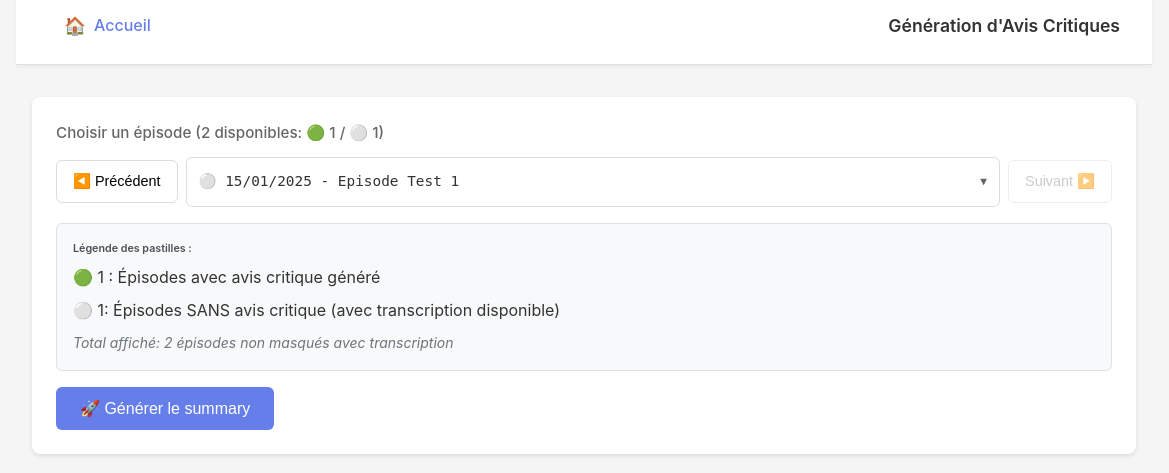
GenerationAvisCritiques.vue › displays episode dropdown with options
// Ouvrir le dropdown
Click the dropdown with class "dropdown-input" at (593, 182), box [186,158,1000,206]
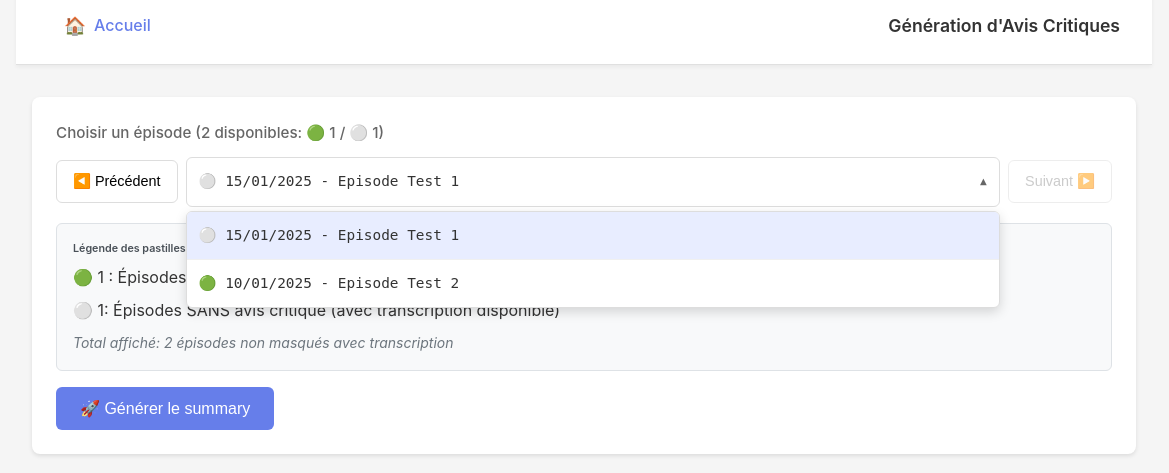
Result: the list with class "dropdown-list" is shown at [186,210,1000,308]
Result: the number of options with class "dropdown-option" is 2 at [187,212,999,260]; [199,274,459,290]
